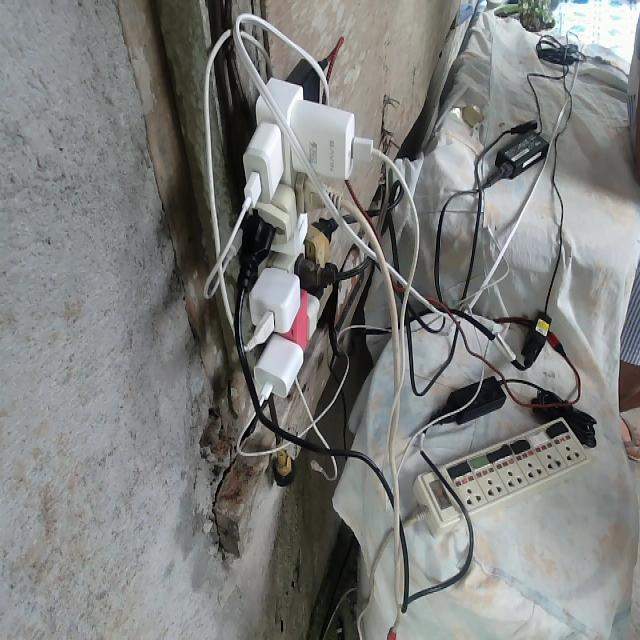-: (237, 74, 362, 398)
